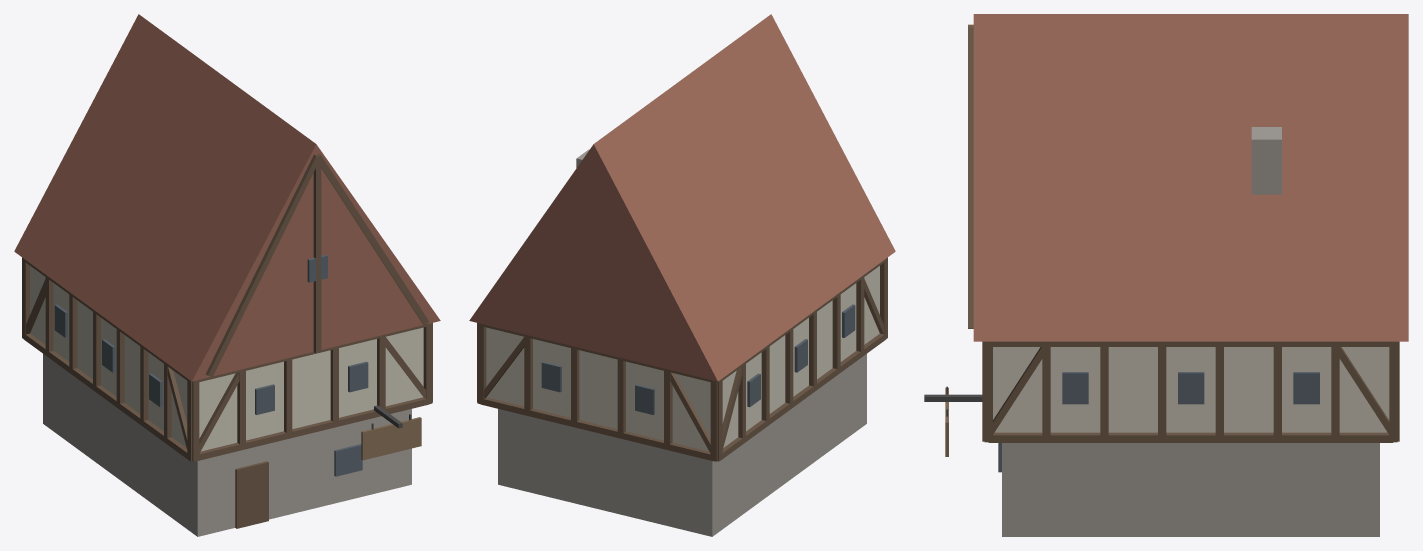
The model's file is m_laden_a.glb.
3 renders of one model, left to right at view 1: azimuth 30°, elevation 25°; view 2: azimuth 150°, elevation 25°; view 3: azimuth 270°, elevation 25°, orthographic. The views are drawn at different scales.
Parts seen in each view (by area): view 1: koerper; view 2: koerper; view 3: koerper.
Part boxes in pixels (box(x1,y1,x2,y2)): koerper: box(14, 14, 440, 536); koerper: box(469, 14, 895, 536); koerper: box(924, 14, 1408, 536).
Bounding box in the file's own units: 9.3 × 13.4 × 12.8.
